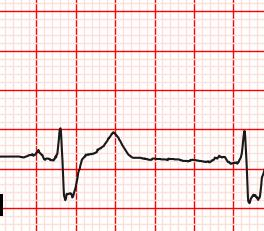LVH: (91, 130, 140, 161)
Poor R Progression: (50, 125, 71, 165)
ST Depression: (44, 154, 89, 202)
